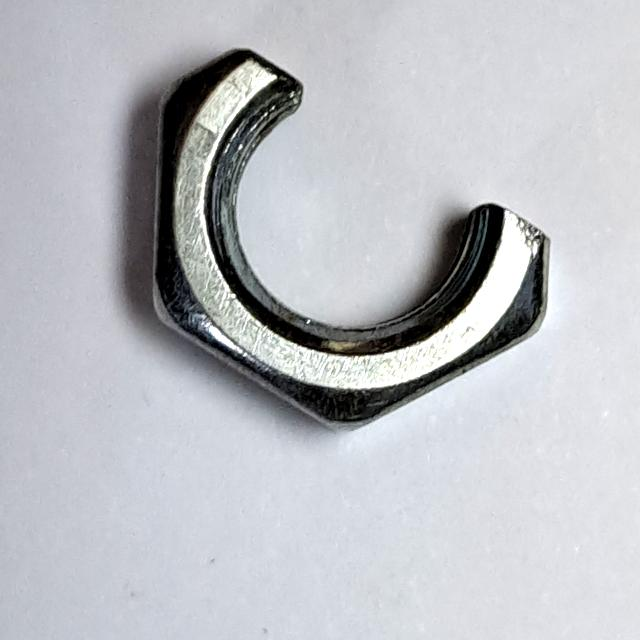Fracture: (130, 32, 569, 446)
